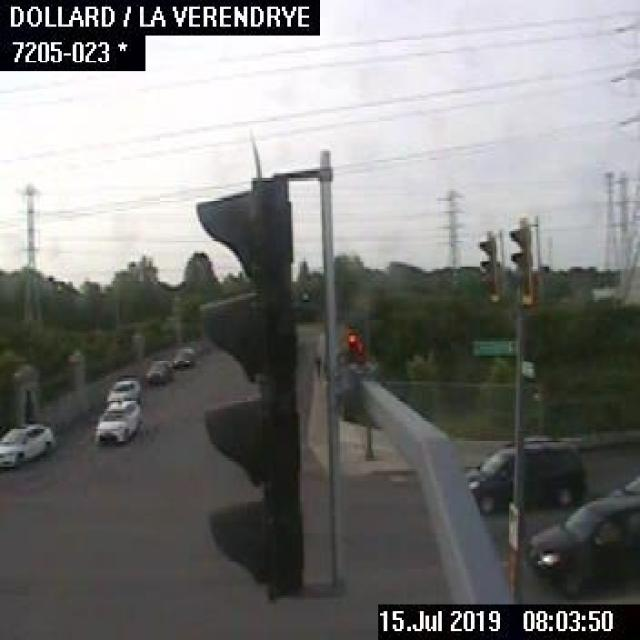pedestrian: (311, 351, 320, 377)
vehicle: (525, 492, 638, 597), (466, 438, 588, 514), (0, 420, 55, 467), (91, 398, 146, 442), (106, 374, 142, 401), (143, 356, 172, 384), (173, 346, 196, 364)
